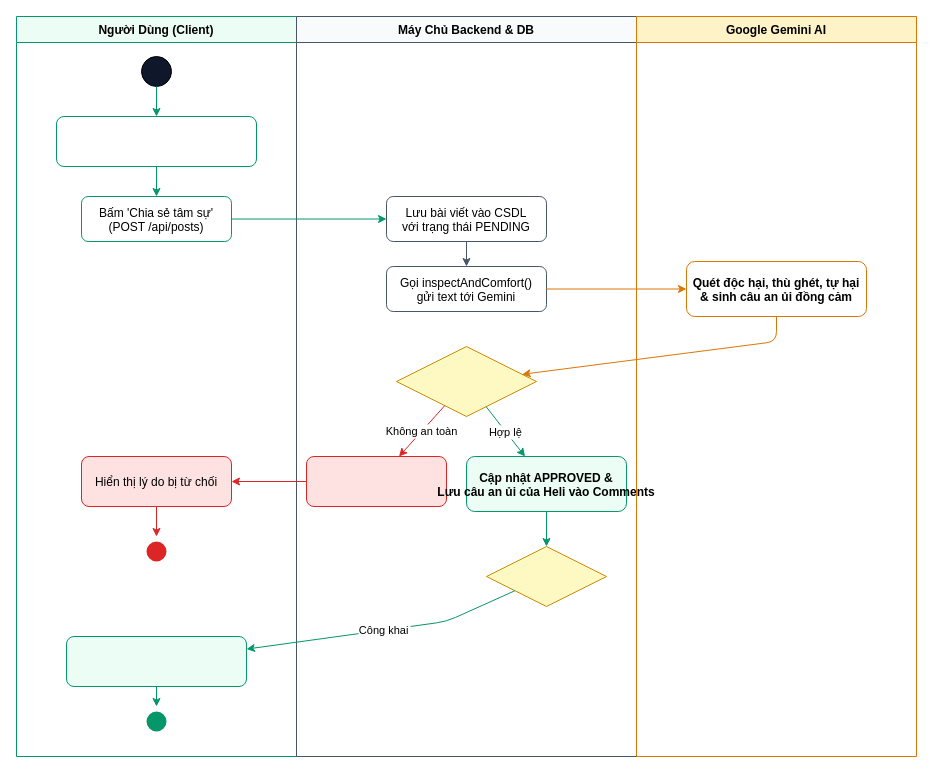
Some shapes in this 933 by 773 pixel diagram are drawn without their labels. Each missing label, with the centre of its shape:
"Cập nhật REJECTED & lưu lý do vi phạm" belongs at (x=376, y=481).
"Hiển thị bài viết trên Bảng tin & hiện toast an ủi từ Heli" belongs at (x=156, y=661).
"is_private = true?" belongs at (x=546, y=576).
"Nhập nội dung, chọn nhãn cảm xúc & chọn chế độ (Công khai / Riêng tư)" belongs at (x=156, y=141).
"Nội dung an toàn?" belongs at (x=466, y=381).
